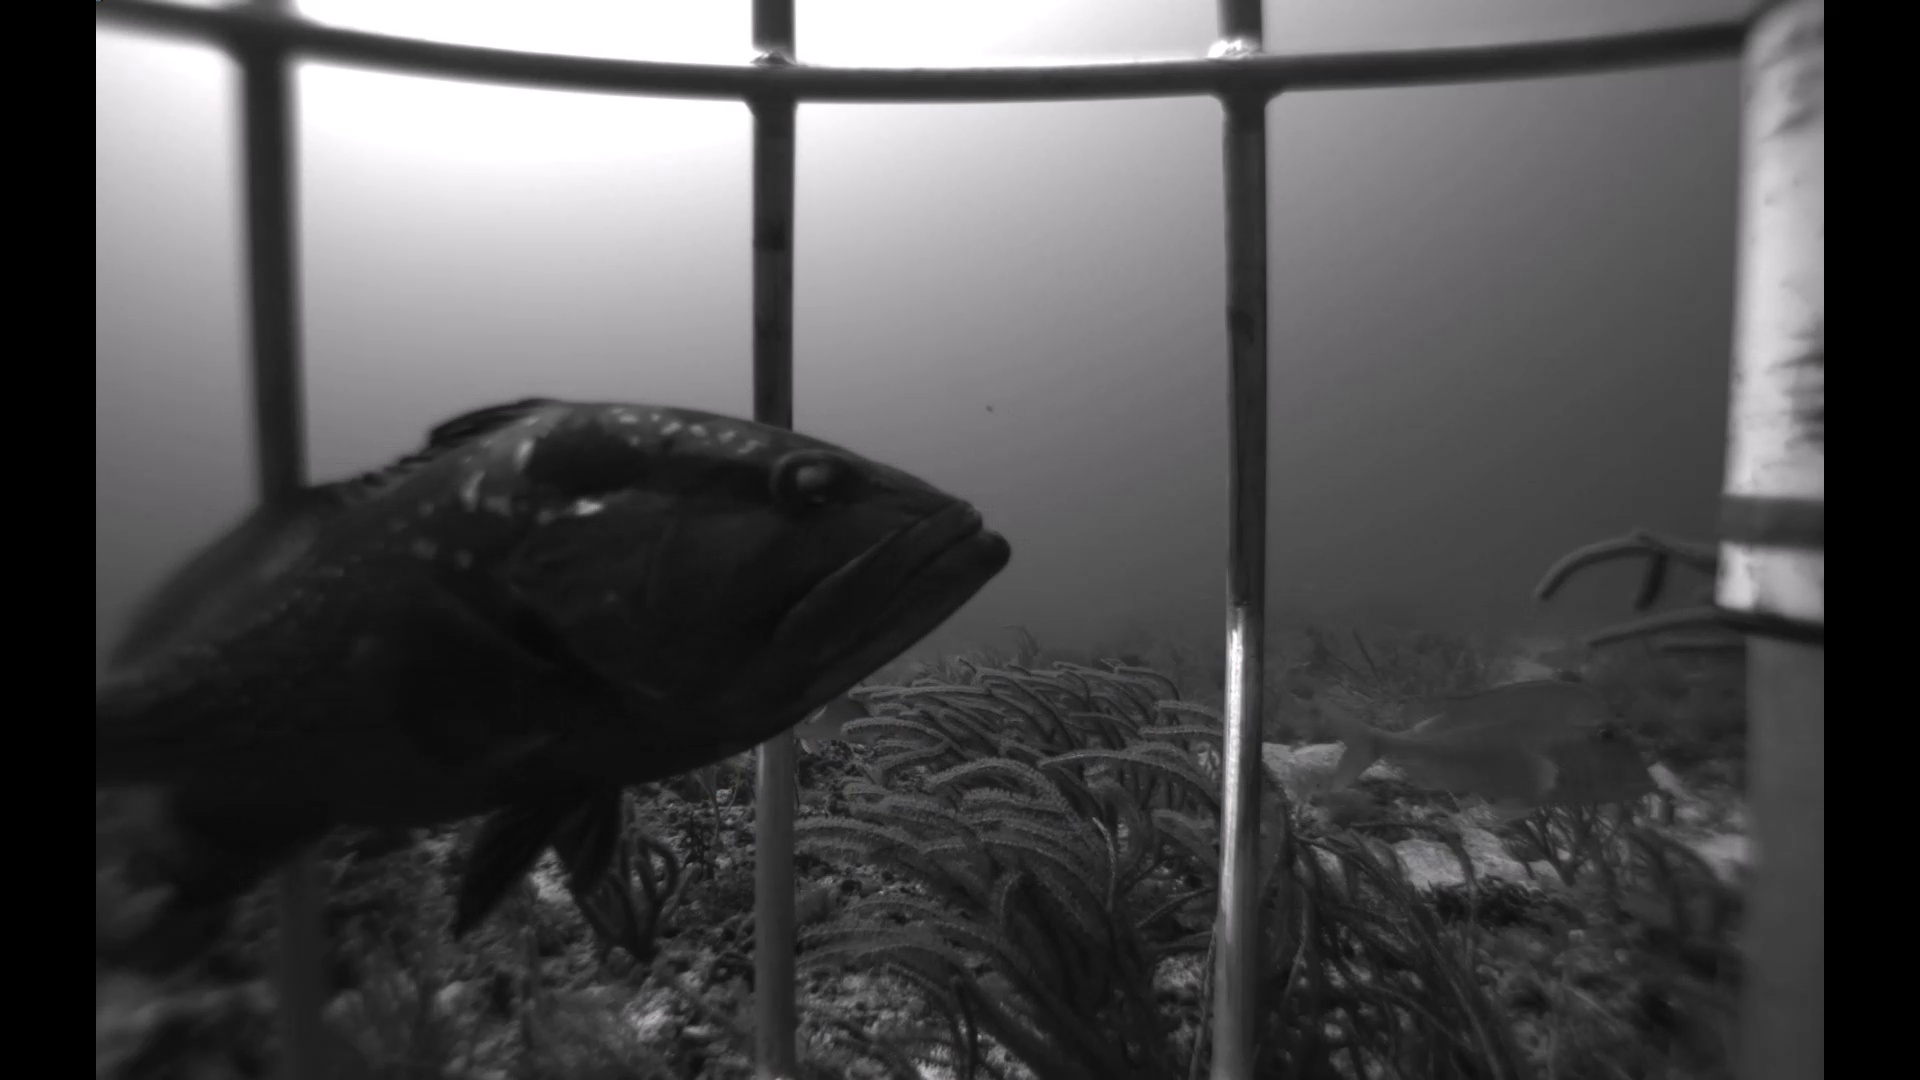CALAMUSNODOSUS-170210608: (1294, 662, 1667, 837)
EPINEPHELUSMORIO-170021211: (108, 375, 1044, 984)
LUTJANUSGRISEUS-170151109: (789, 687, 918, 765)
